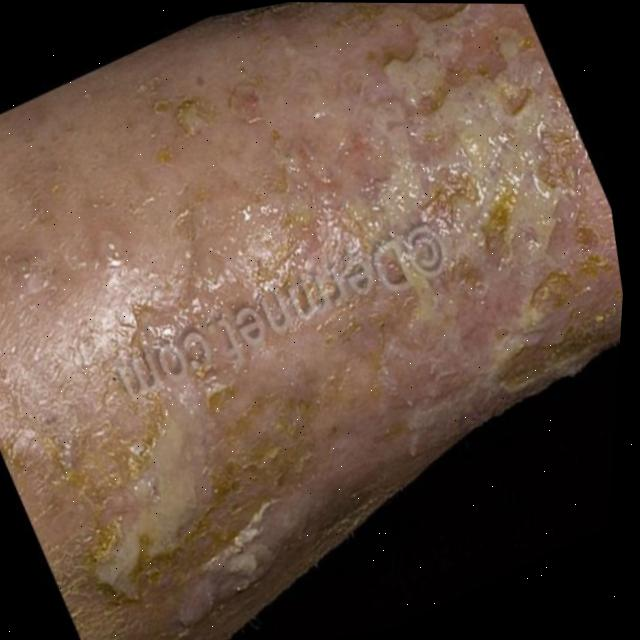Eczema: (0, 63, 636, 551)
